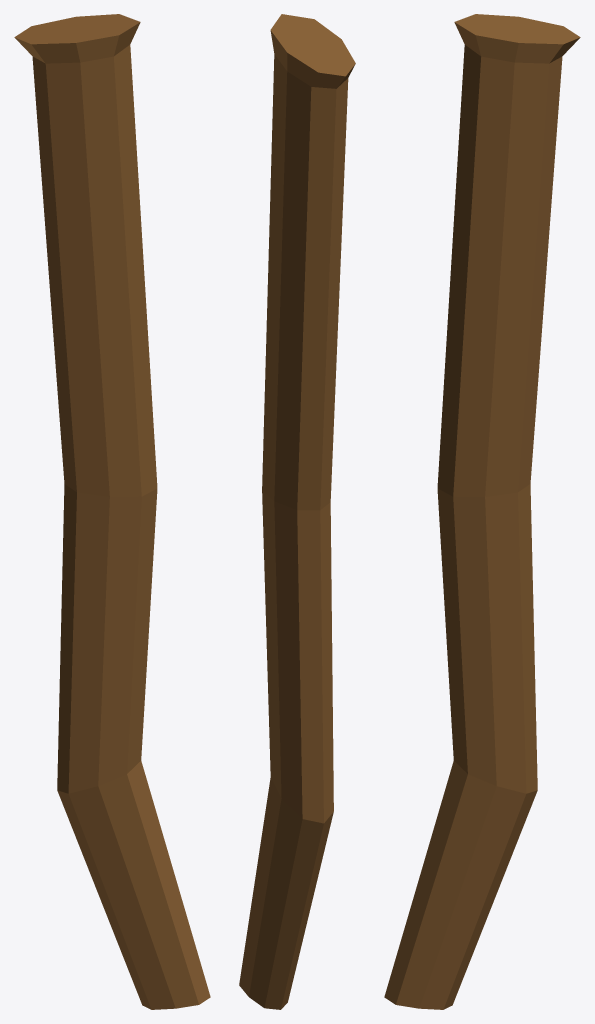
Rendered from Axe Handle.002.glb.
3 renders of one model, left to right at view 1: azimuth 90°, elevation 25°; view 2: azimuth 210°, elevation 25°; view 3: azimuth 270°, elevation 25°, orthographic.
Parts seen in each view (by area): view 1: Axe Handle.002; view 2: Axe Handle.002; view 3: Axe Handle.002.
Part boxes in pixels (x1,y1,x2,y2): Axe Handle.002: [14, 14, 210, 1009]; Axe Handle.002: [239, 14, 355, 1009]; Axe Handle.002: [384, 14, 580, 1009].
Size of the model in its own units: 0.068 by 1.19 by 0.2149.
